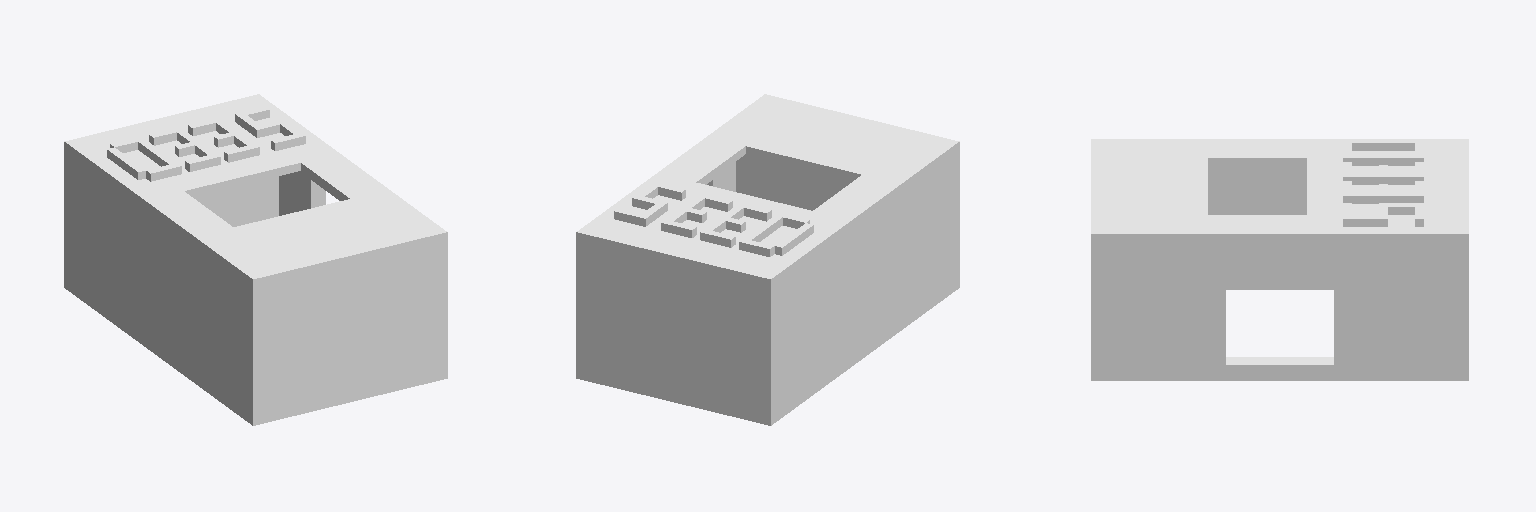
Rendered from seed-converter.obj.
3 renders of one model, left to right at view 1: azimuth 30°, elevation 25°; view 2: azimuth 150°, elevation 25°; view 3: azimuth 270°, elevation 25°, orthographic.
Visible parts, largest first — view 1: object 1; view 2: object 1; view 3: object 1.
Boxes of the visible parts, <box> form: object 1: <box>64,94,447,425</box>; object 1: <box>576,94,959,425</box>; object 1: <box>1091,139,1468,380</box>.
Size of the model in its own units: 2.5 by 1.9 by 4.2.